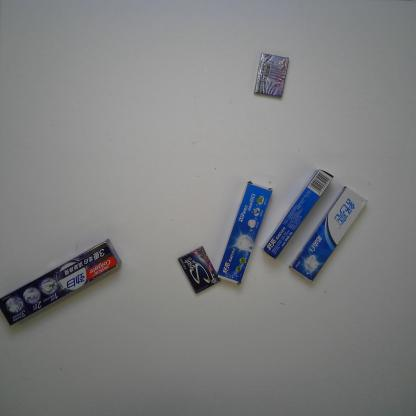Gum: (177, 244, 221, 298), (253, 50, 291, 100)
Personal Hygiene: (1, 236, 124, 327), (286, 184, 368, 284), (262, 166, 335, 262), (215, 178, 274, 286)
